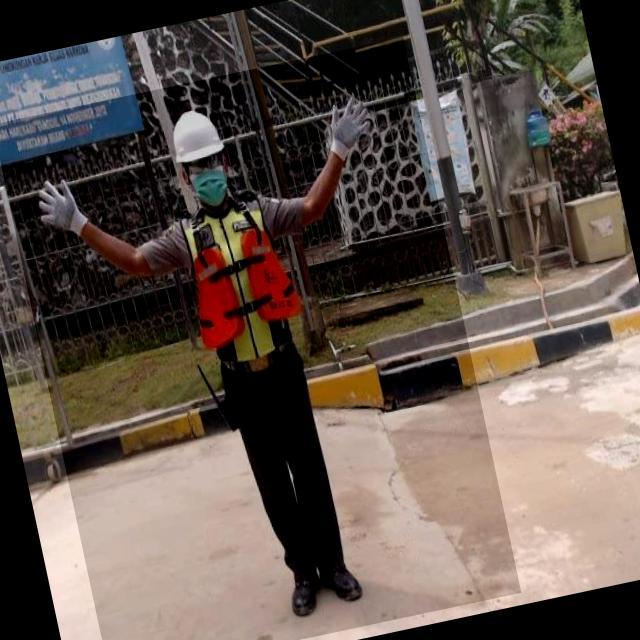Helmet: (165, 104, 227, 166)
Human: (0, 37, 521, 640)
Safety Boot: (282, 558, 328, 625), (318, 555, 367, 612)
Safety Vest: (174, 193, 308, 372)
